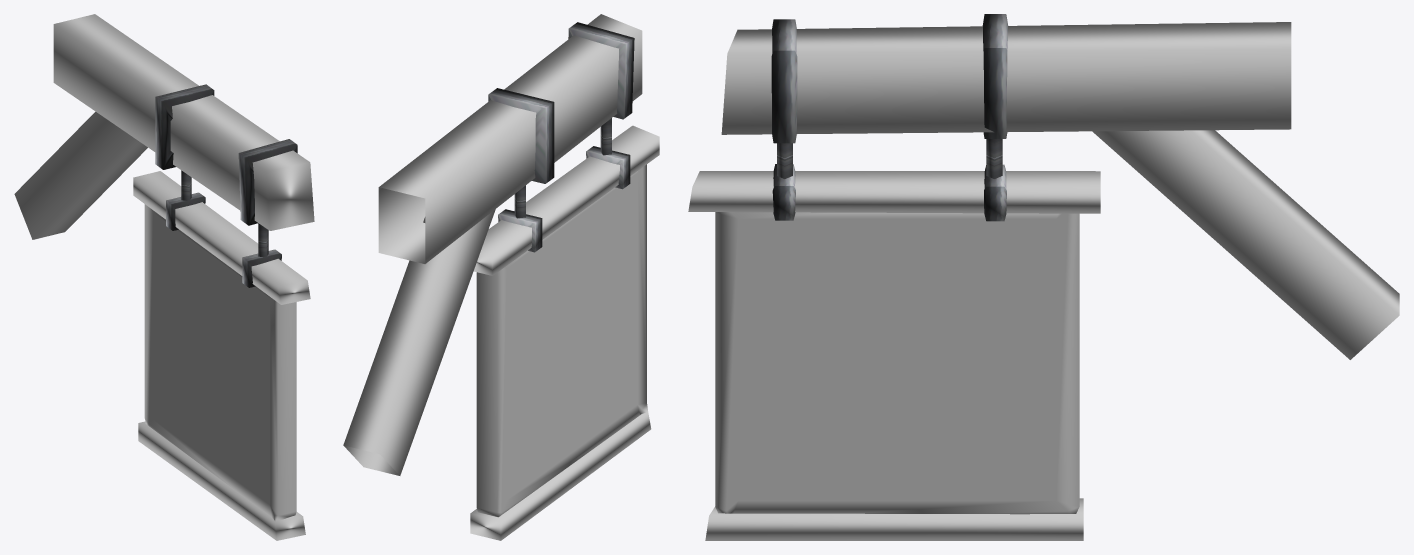
File: ShopSign_1.fbx
The picture shows the model from 3 angles, left to right: view 1: azimuth 30°, elevation 25°; view 2: azimuth 150°, elevation 25°; view 3: azimuth 270°, elevation 25°; orthographic projection. The views are drawn at different scales.
Visible parts, largest first — view 1: Mesh; view 2: Mesh; view 3: Mesh.
Boxes of the visible parts, x1=… form: Mesh: x1=14, y1=14, x2=314, y2=540; Mesh: x1=343, y1=14, x2=659, y2=540; Mesh: x1=688, y1=14, x2=1399, y2=540.
Size of the model in its own units: 22.24 by 136 by 175.
